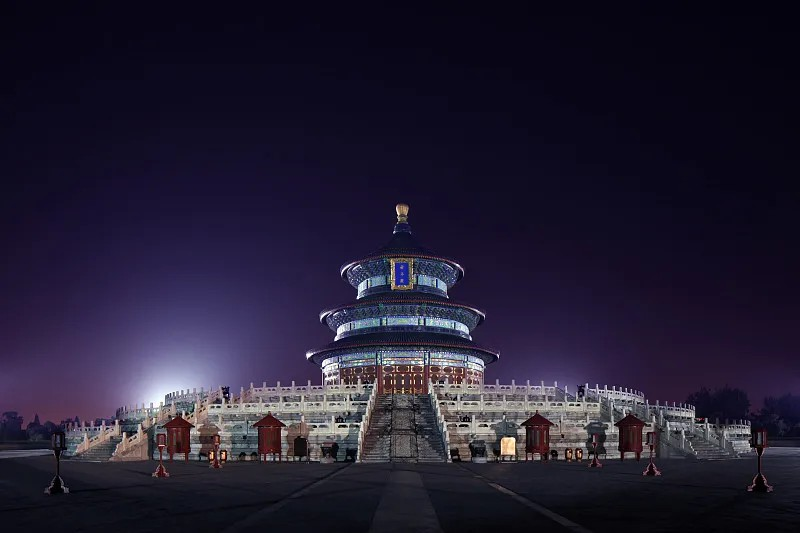Heaven: (304, 204, 501, 393)
